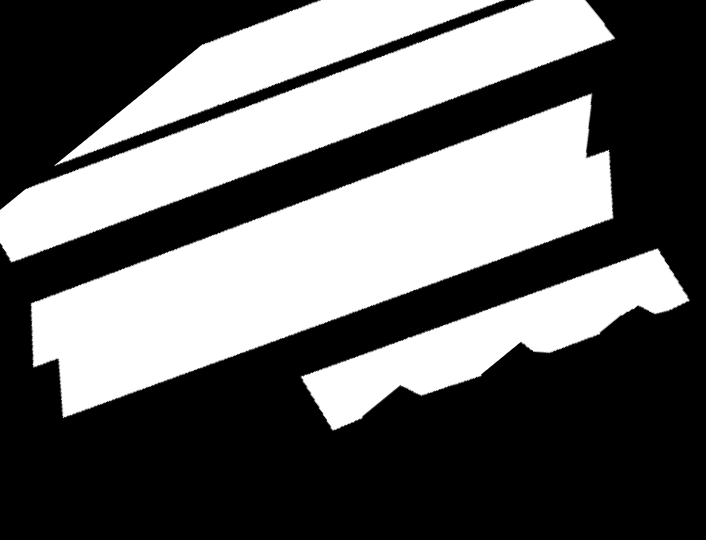parkingspot: (31, 94, 613, 418), (0, 0, 615, 262), (55, 0, 504, 166), (301, 249, 690, 431)
